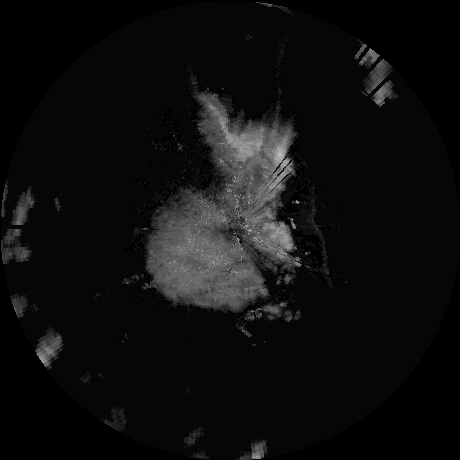frontgust: (309, 199, 333, 284)
